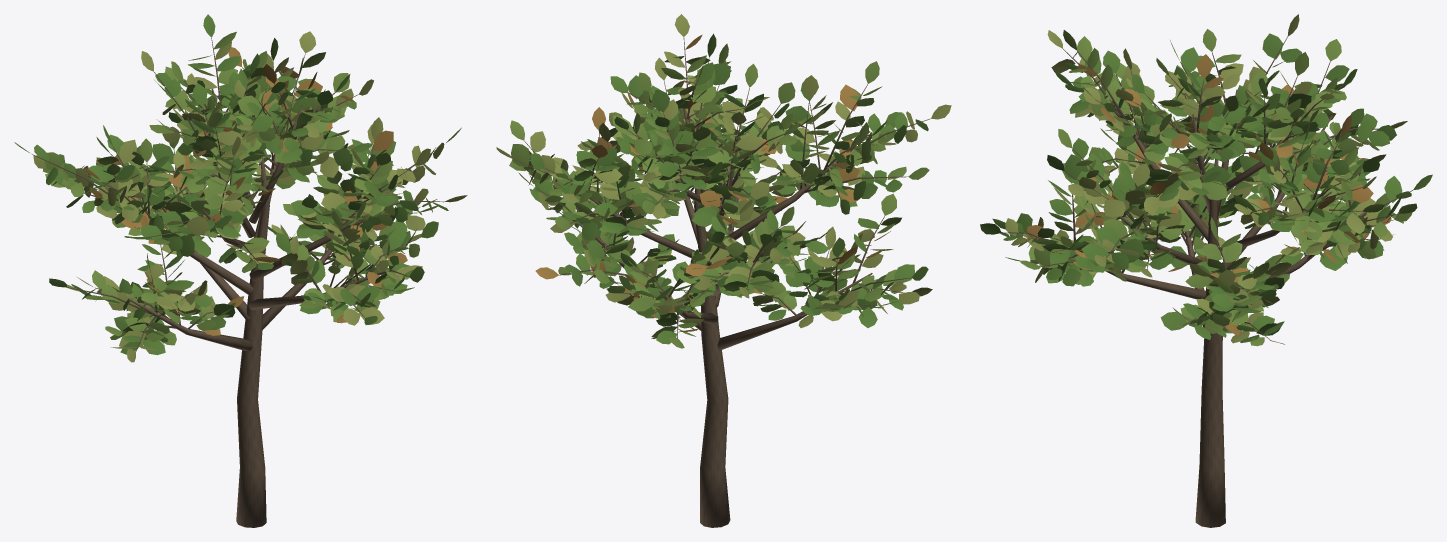
File: street-tree.glb
3 renders of one model, left to right at view 1: azimuth 30°, elevation 25°; view 2: azimuth 150°, elevation 25°; view 3: azimuth 270°, elevation 25°, orthographic. The views are drawn at different scales.
Parts seen in each view (by area): view 1: StreetTreeEarlyAutumn; view 2: StreetTreeEarlyAutumn; view 3: StreetTreeEarlyAutumn.
Part boxes in pixels (left/top/right/bottom): StreetTreeEarlyAutumn: left=14, top=14, right=467, bottom=527; StreetTreeEarlyAutumn: left=496, top=14, right=951, bottom=527; StreetTreeEarlyAutumn: left=980, top=14, right=1432, bottom=527.
Size of the model in its own units: 5.69 by 6 by 5.2.
2 materials, 1 textured.
